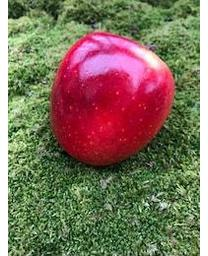apple: (48, 30, 175, 167)
